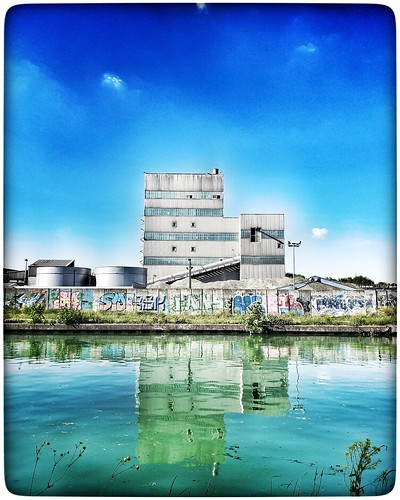building: (149, 177, 281, 291)
graffiti: (101, 293, 376, 323)
river: (11, 332, 400, 500)
sky: (1, 1, 373, 236)
wall: (17, 280, 399, 322)
